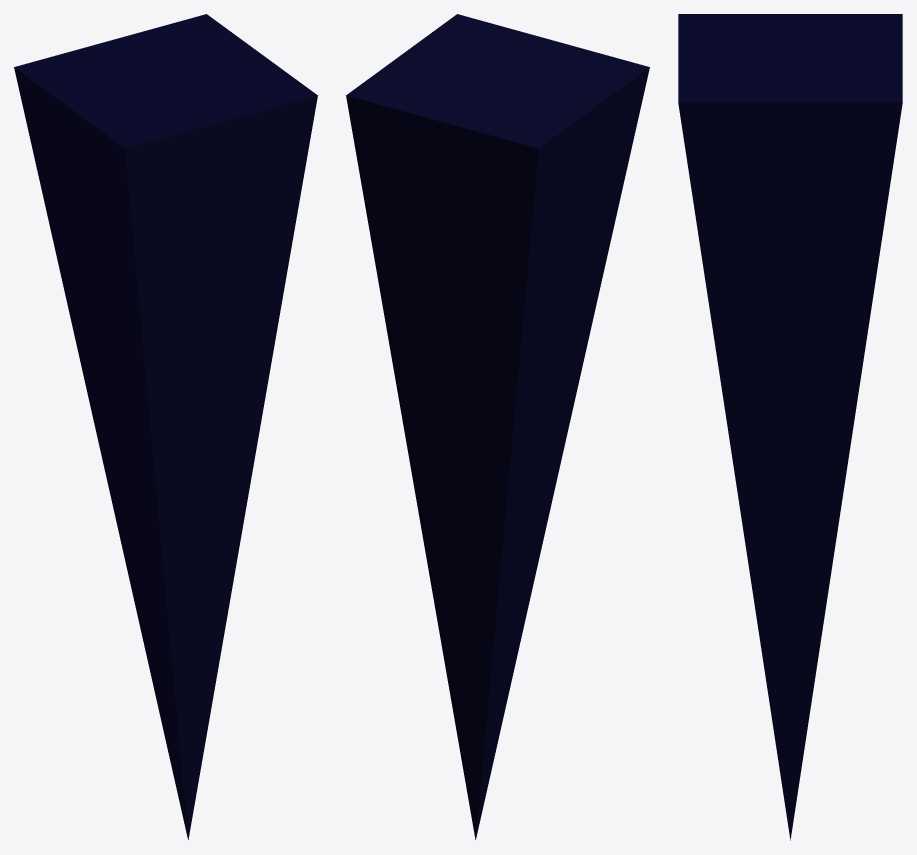
File: Pin2.glb
3 views of the same model, side by side, from view 1: azimuth 30°, elevation 25°; view 2: azimuth 150°, elevation 25°; view 3: azimuth 270°, elevation 25° (orthographic).
Parts seen in each view (by area): view 1: Cube; view 2: Cube; view 3: Cube.
Part boxes in pixels (x1,y1,x2,y2): Cube: (14,14,317,839); Cube: (346,14,649,839); Cube: (678,14,902,840).
Size of the model in its own units: 0.4635 by 1.77 by 0.4637.
